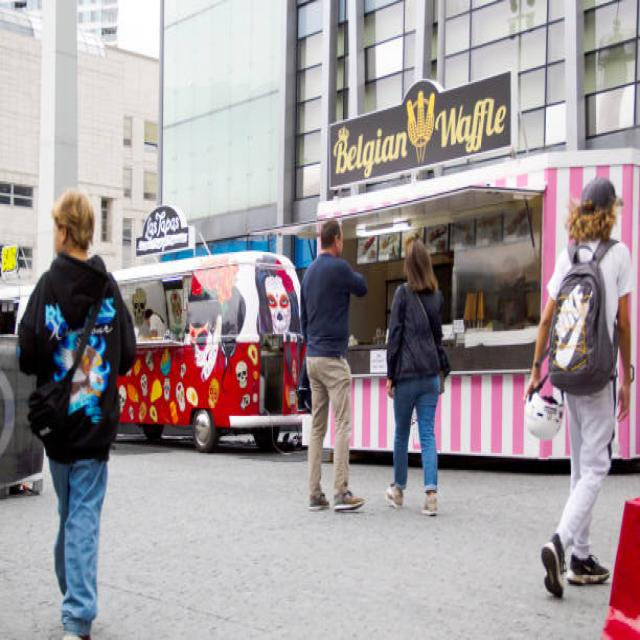Emperan: (238, 66, 640, 489), (49, 199, 309, 461)
